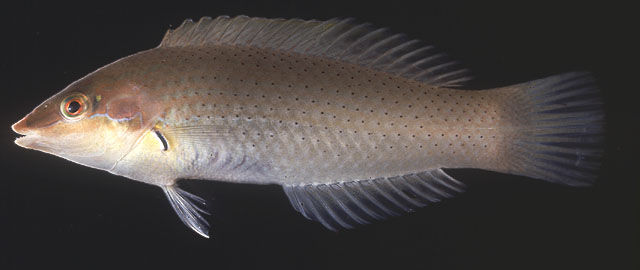fish: (11, 13, 607, 240)
